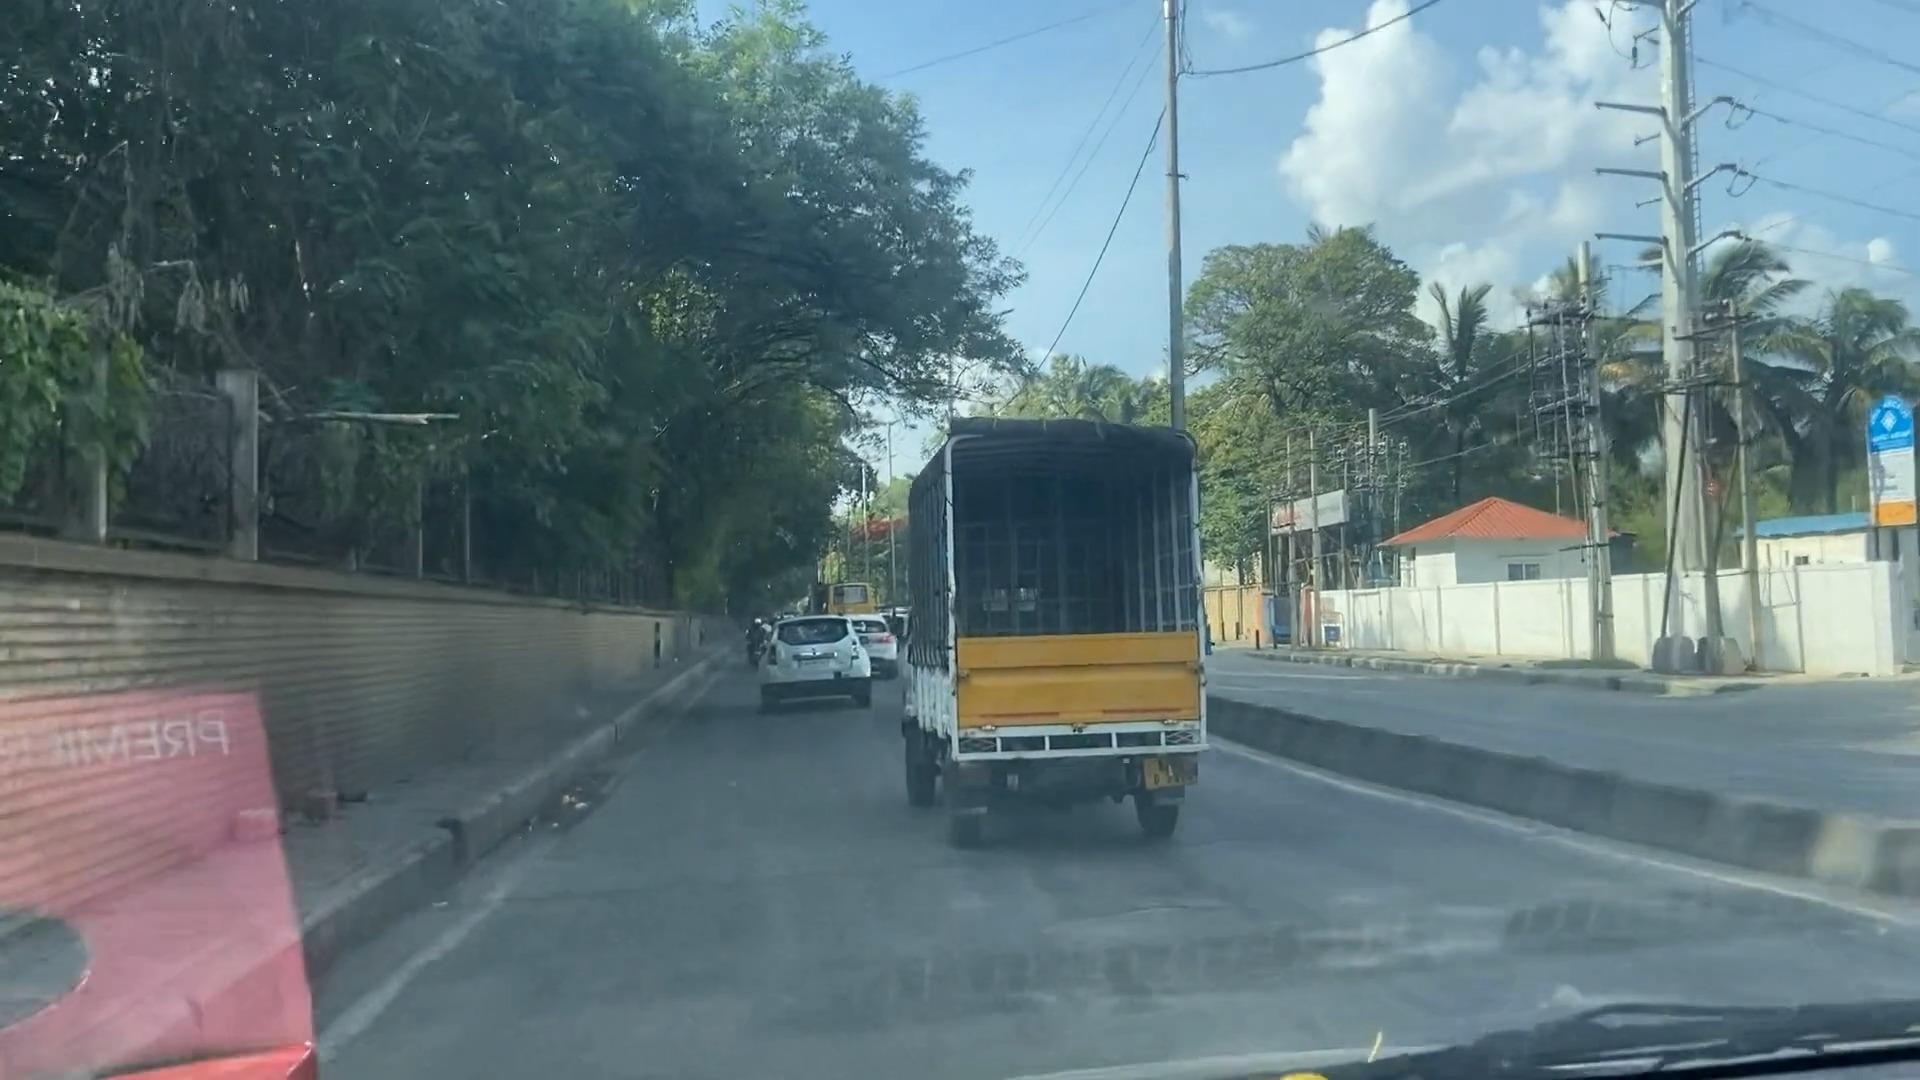HMV: (894, 413, 1203, 820)
LMV: (769, 611, 877, 703)
